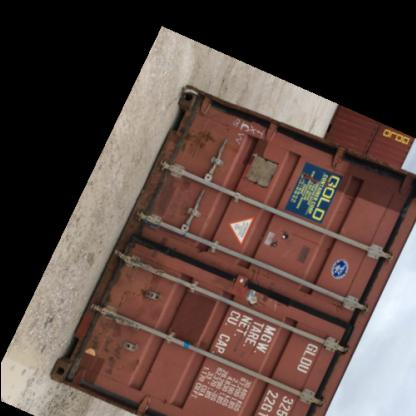Damage: (86, 320, 140, 382), (137, 174, 195, 218), (132, 229, 186, 267), (244, 288, 292, 322), (180, 124, 224, 158), (290, 239, 320, 269)
